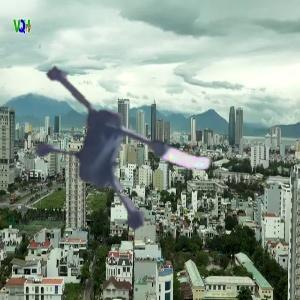drone: (11, 42, 237, 268)
